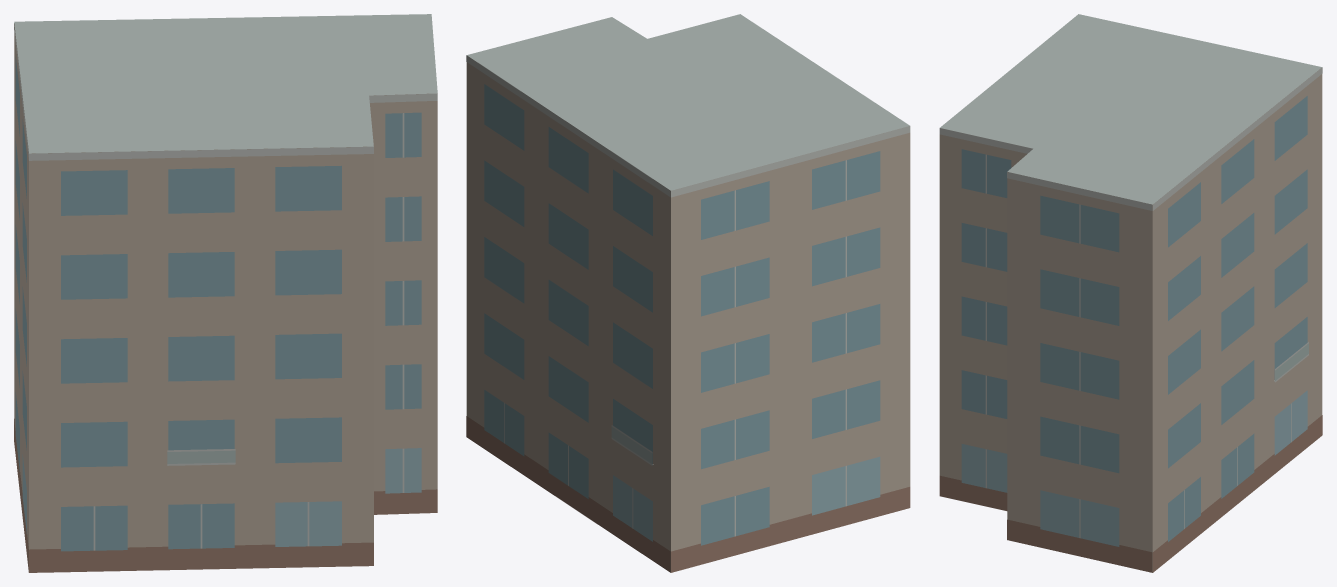
The model's file is survey-upis-32892550.glb.
3 views of the same model, side by side, from view 1: azimuth 30°, elevation 25°; view 2: azimuth 150°, elevation 25°; view 3: azimuth 270°, elevation 25° (orthographic). The views are drawn at different scales.
Visible parts, largest first — view 1: survey-upis-32892550.tmp; view 2: survey-upis-32892550.tmp; view 3: survey-upis-32892550.tmp.
Part boxes in pixels (x1,y1,x2,y2): survey-upis-32892550.tmp: (14,14,437,572); survey-upis-32892550.tmp: (466,14,910,572); survey-upis-32892550.tmp: (939,14,1322,572).
Bounding box in the file's own units: 15.38 × 13.85 × 13.06.
